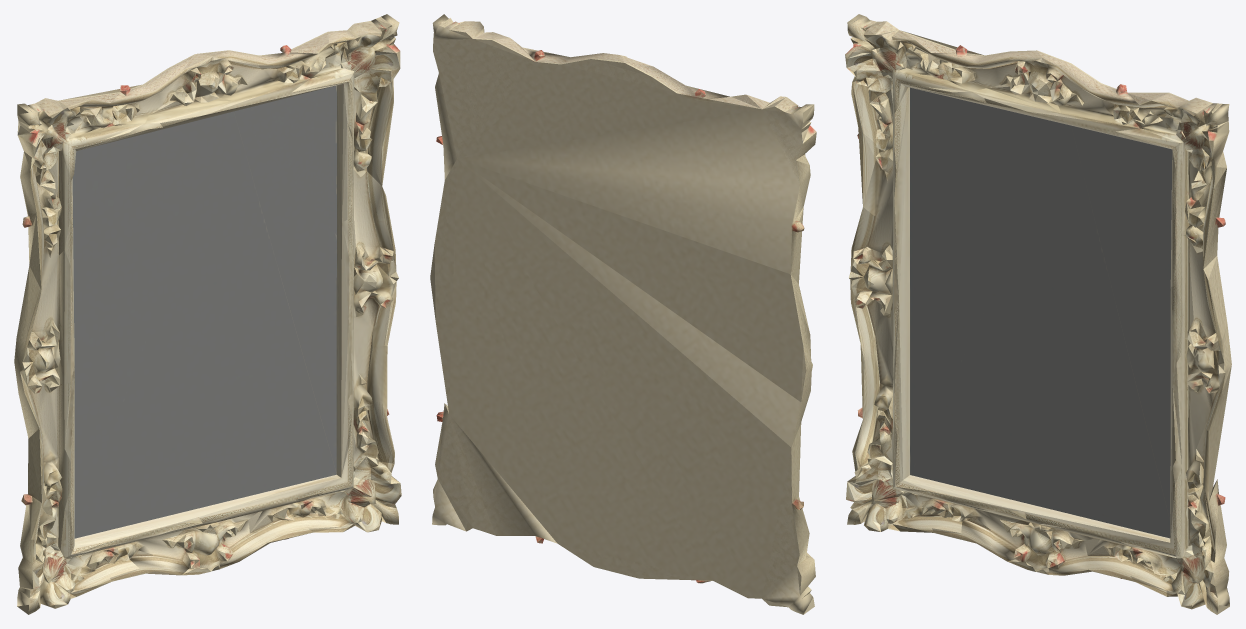
File: Cadre.fbx
3 views of the same model, side by side, from view 1: azimuth 30°, elevation 25°; view 2: azimuth 150°, elevation 25°; view 3: azimuth 330°, elevation 25° (orthographic).
Visible parts, largest first — view 1: Mesh_0; view 2: Mesh_0; view 3: Mesh_0.
Part boxes in pixels (left/top/right/bottom): Mesh_0: left=14, top=14, right=401, bottom=614; Mesh_0: left=430, top=14, right=816, bottom=614; Mesh_0: left=845, top=14, right=1231, bottom=614.
Bounding box in the file's own units: 146 × 190 × 10.81.
1 material, 1 textured.
